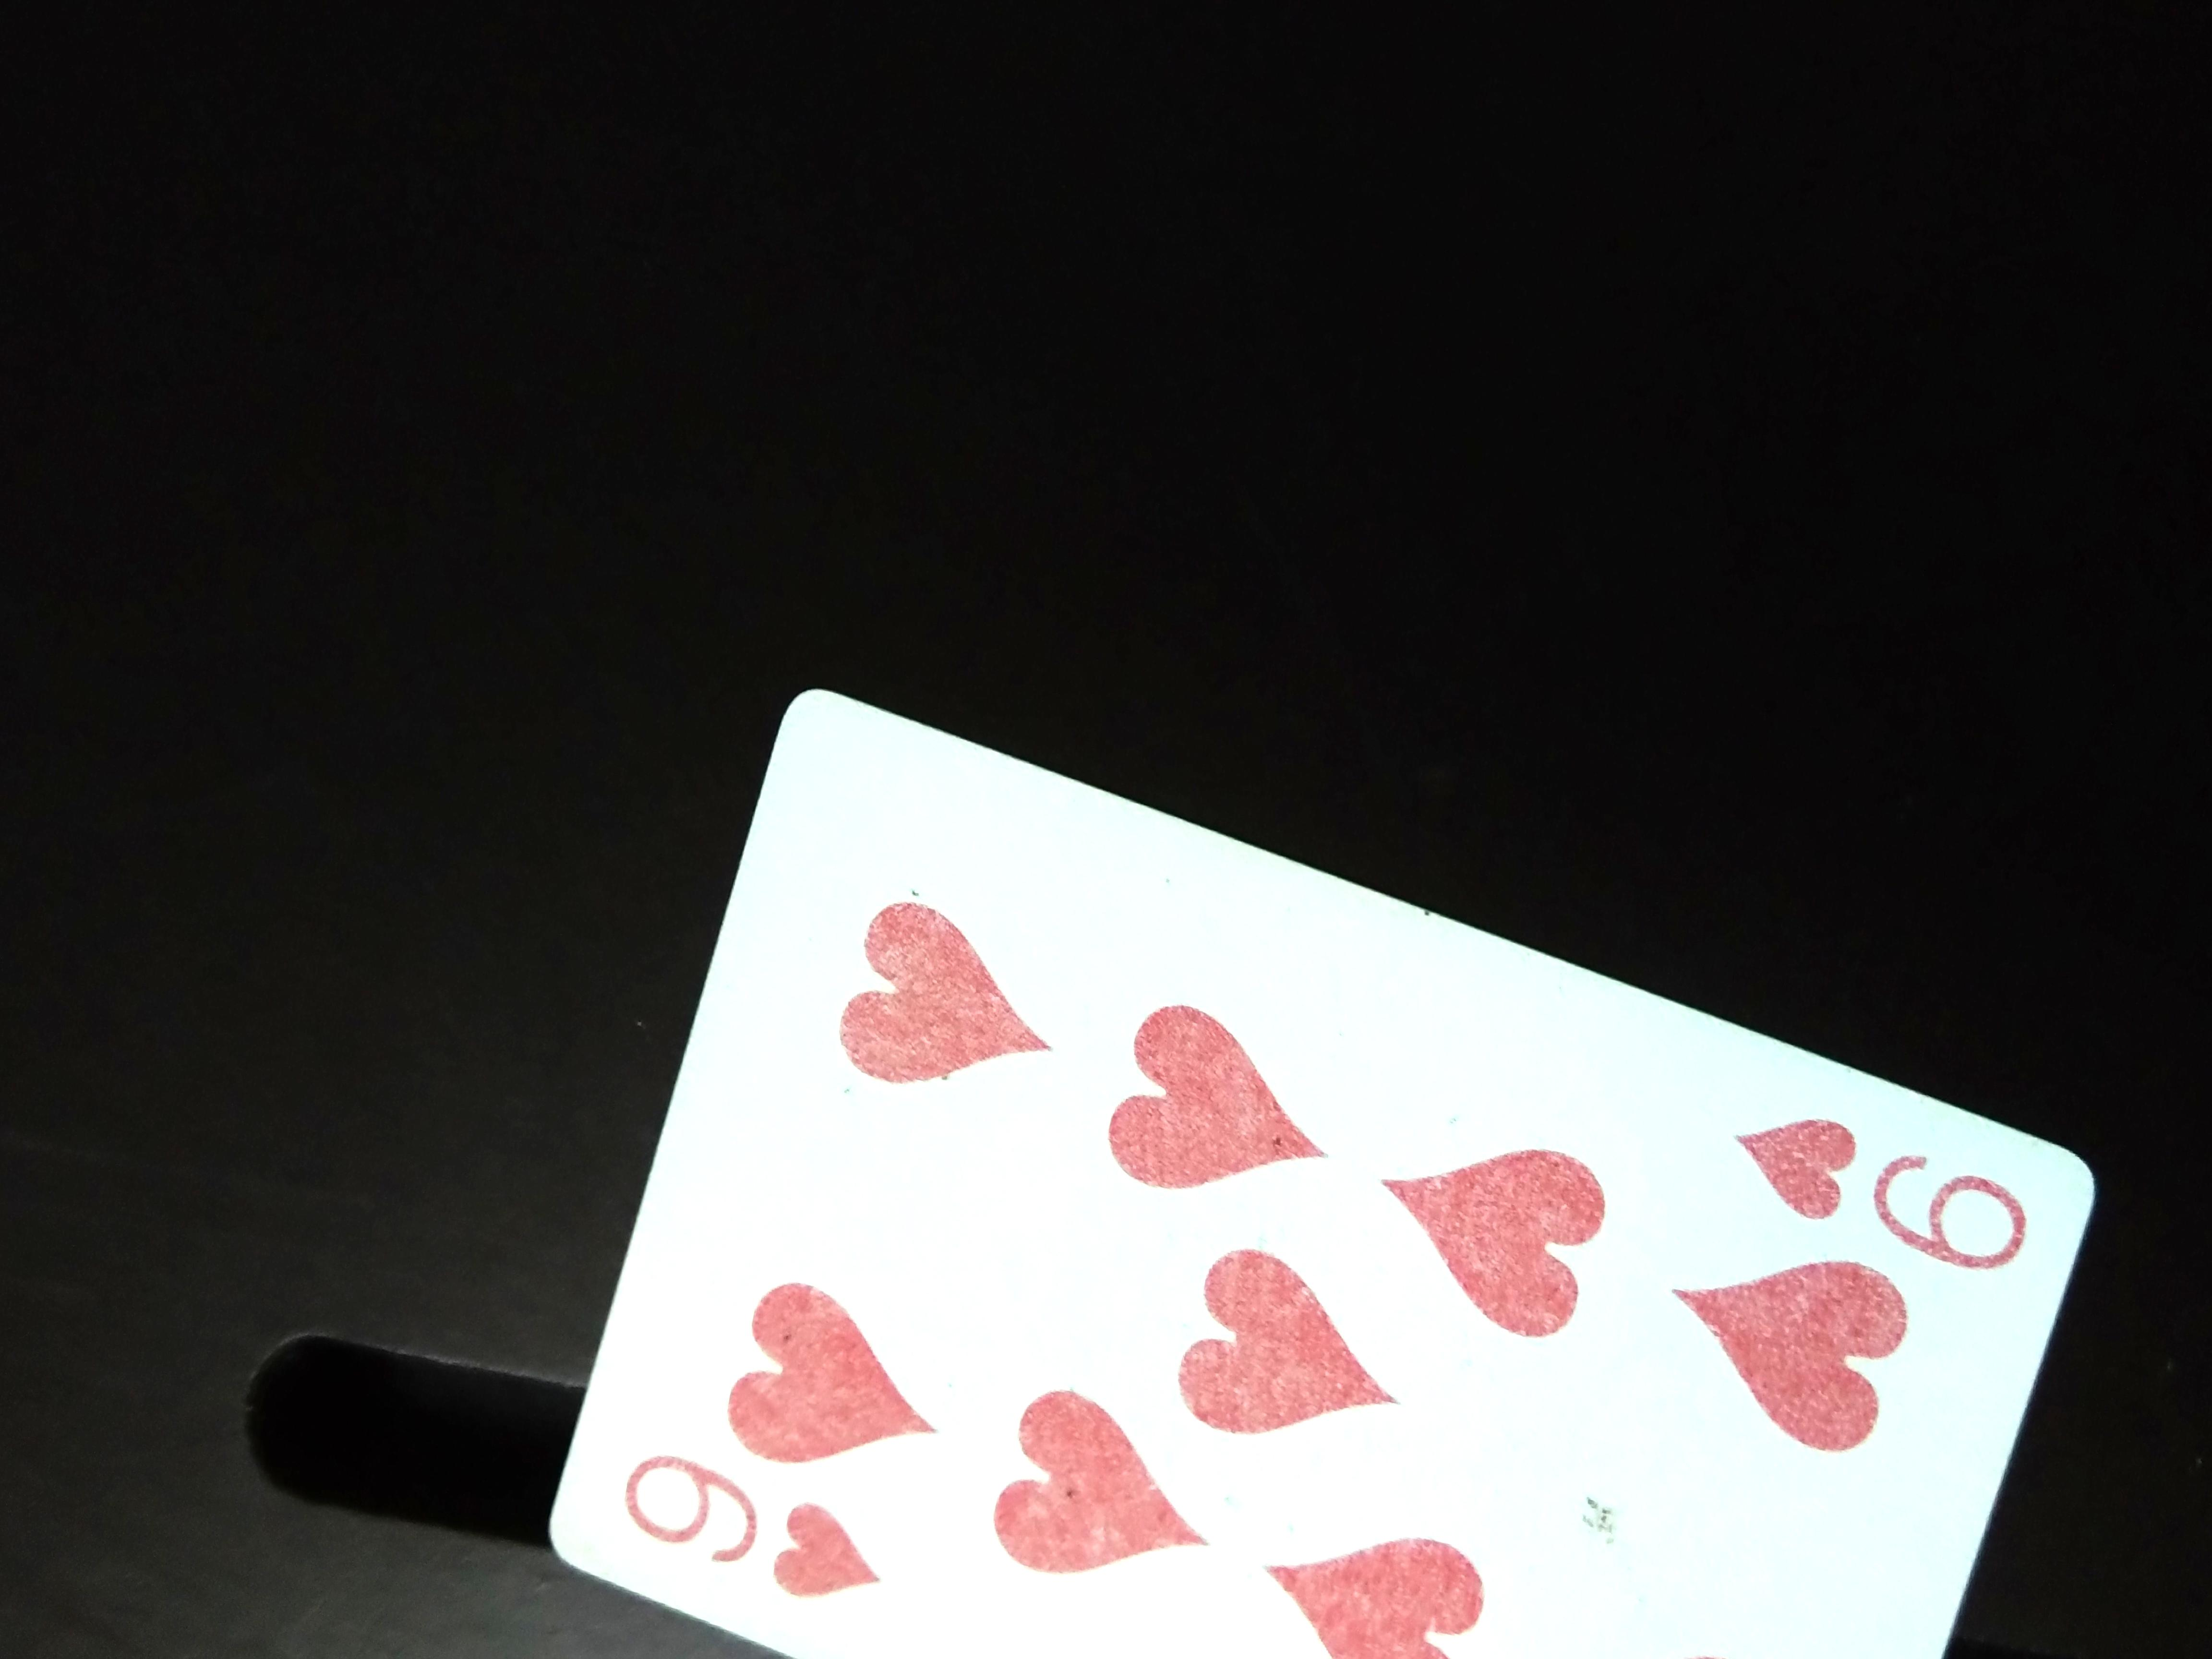9H: (1695, 1089, 2045, 1290)
